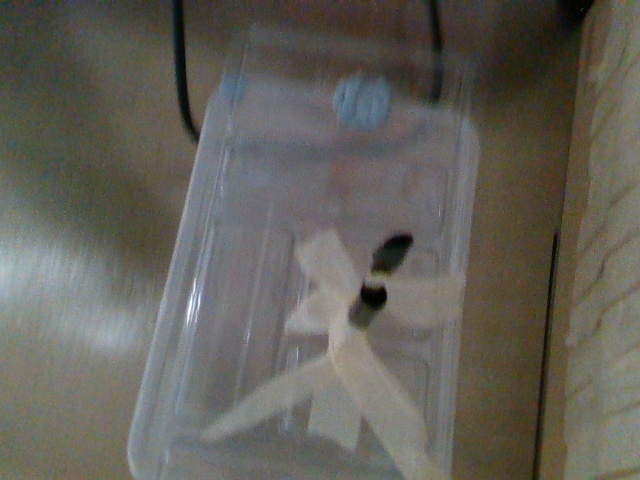test_strip: (363, 230, 410, 285)
